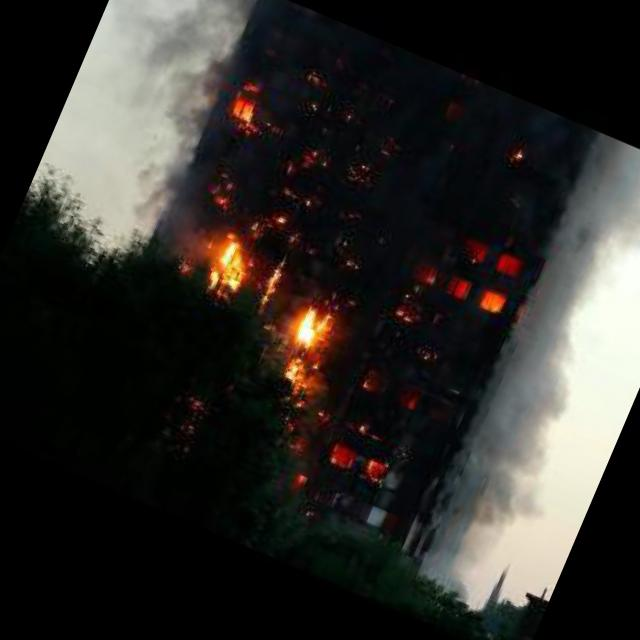fire: (268, 288, 352, 402), (197, 214, 270, 302)
smoke: (407, 121, 640, 562), (75, 0, 273, 182), (118, 167, 232, 277)
